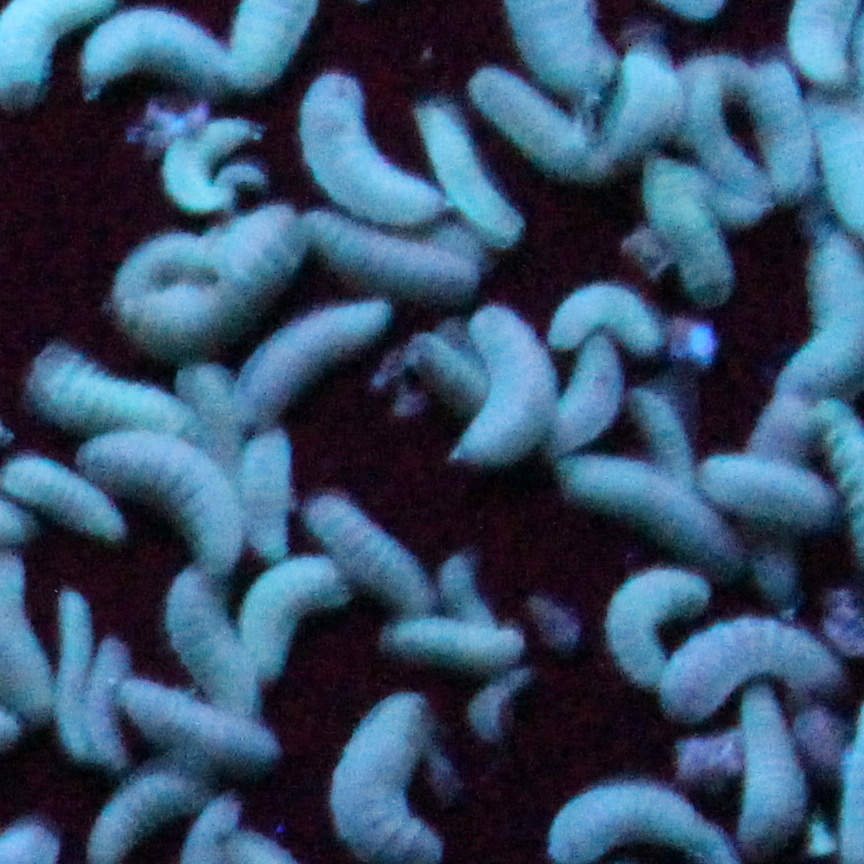larve: (646, 615, 842, 706), (112, 434, 239, 573), (289, 82, 416, 211), (245, 301, 383, 419), (132, 227, 277, 336), (121, 683, 281, 776), (419, 106, 532, 237), (631, 163, 738, 298), (559, 464, 716, 554), (165, 564, 257, 713), (304, 219, 460, 297), (464, 305, 543, 459), (82, 8, 222, 93), (735, 692, 801, 861), (39, 354, 176, 432), (709, 449, 833, 533), (9, 452, 122, 542), (607, 569, 699, 676), (477, 81, 590, 168), (47, 595, 106, 760), (378, 610, 536, 671), (88, 774, 195, 858), (325, 508, 422, 598), (251, 564, 335, 662), (747, 61, 806, 194), (84, 629, 140, 766), (175, 116, 250, 208), (683, 62, 743, 174), (237, 432, 289, 560), (616, 47, 668, 163), (550, 296, 658, 349), (558, 354, 619, 443)
